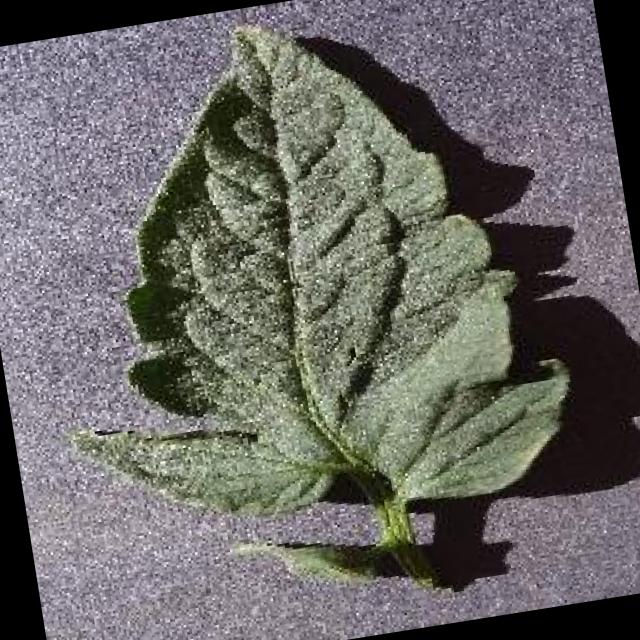Tomato_Healthy: (61, 0, 613, 614)
